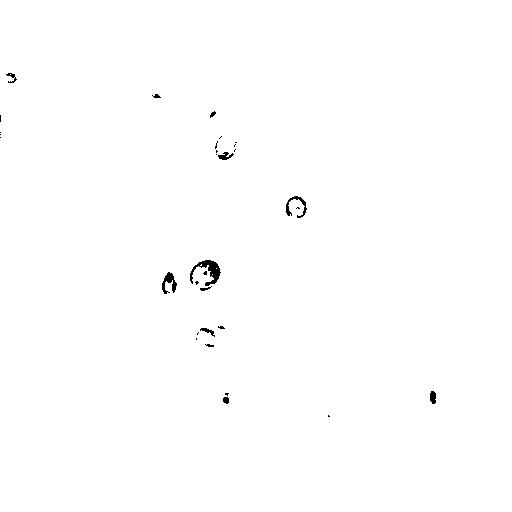micro-algae: (434, 0, 500, 63), (215, 375, 253, 415), (188, 258, 222, 292), (155, 254, 180, 287), (213, 132, 239, 160), (269, 166, 292, 197), (194, 326, 219, 353), (284, 195, 307, 221), (161, 270, 179, 298), (425, 385, 443, 411), (2, 72, 17, 84), (206, 109, 218, 122)
